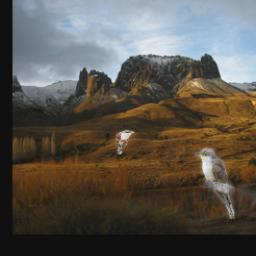Cuckoo: (196, 149, 236, 220), (116, 131, 134, 155)
